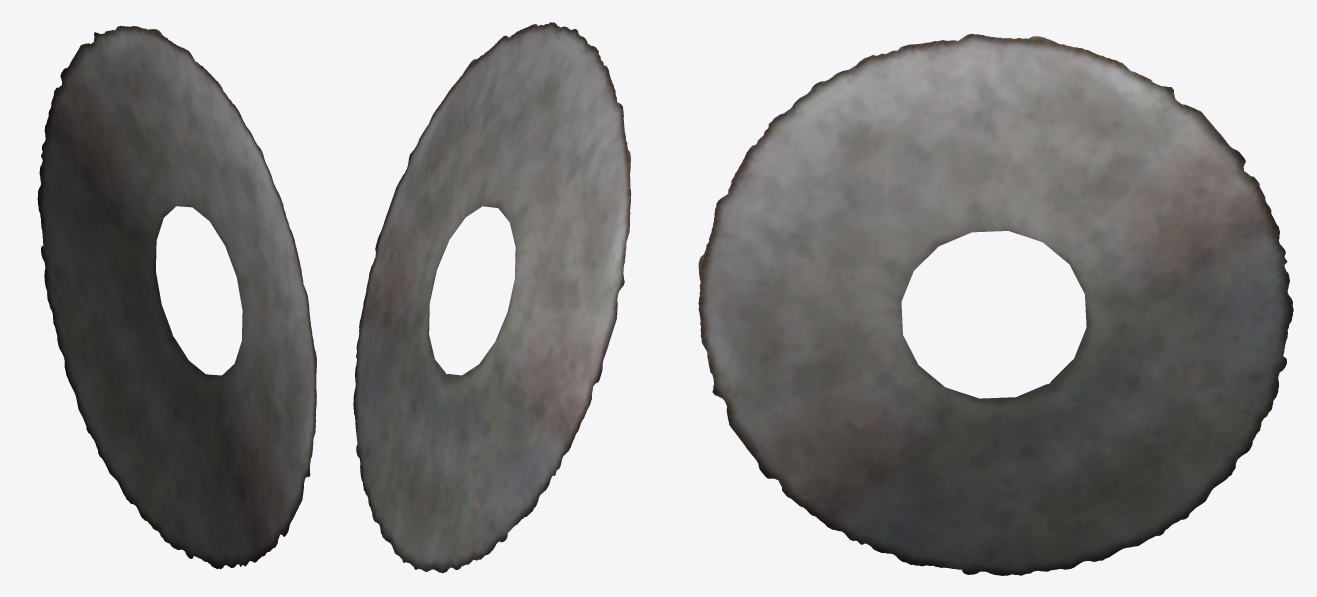
The model's file is westerngfx_early_heavy_shield.dae.
3 views of the same model, side by side, from view 1: azimuth 30°, elevation 25°; view 2: azimuth 150°, elevation 25°; view 3: azimuth 270°, elevation 25° (orthographic). The views are drawn at different scales.
Parts seen in each view (by area): view 1: ShieldTabard_ncl1_1; view 2: ShieldTabard_ncl1_1; view 3: ShieldTabard_ncl1_1.
Part boxes in pixels (left/top/right/bottom): ShieldTabard_ncl1_1: left=37, top=25, right=316, bottom=569; ShieldTabard_ncl1_1: left=353, top=22, right=631, bottom=573; ShieldTabard_ncl1_1: left=698, top=33, right=1293, bottom=575.
Bounding box in the file's own units: 1.24 × 6.43 × 6.43.
